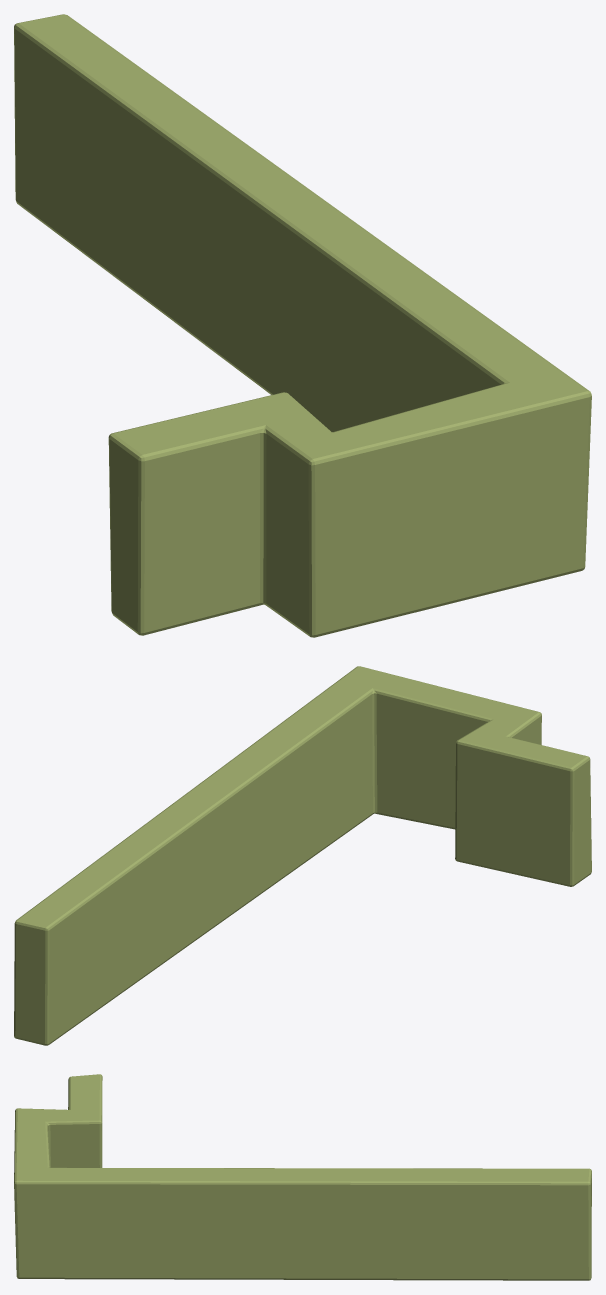
The model's file is Wall piece 3 collider.fbx.
3 views of the same model, one above another, from view 1: azimuth 30°, elevation 25°; view 2: azimuth 150°, elevation 25°; view 3: azimuth 270°, elevation 25° (orthographic). The views are drawn at different scales.
Visible parts, largest first — view 1: wall piece 3 collider; view 2: wall piece 3 collider; view 3: wall piece 3 collider.
Boxes of the visible parts, x1,y1,x2,y2 form: wall piece 3 collider: (14,14,591,637); wall piece 3 collider: (14,666,591,1045); wall piece 3 collider: (14,1074,591,1280).
Bounding box in the file's own units: 989 × 2214 × 437.
